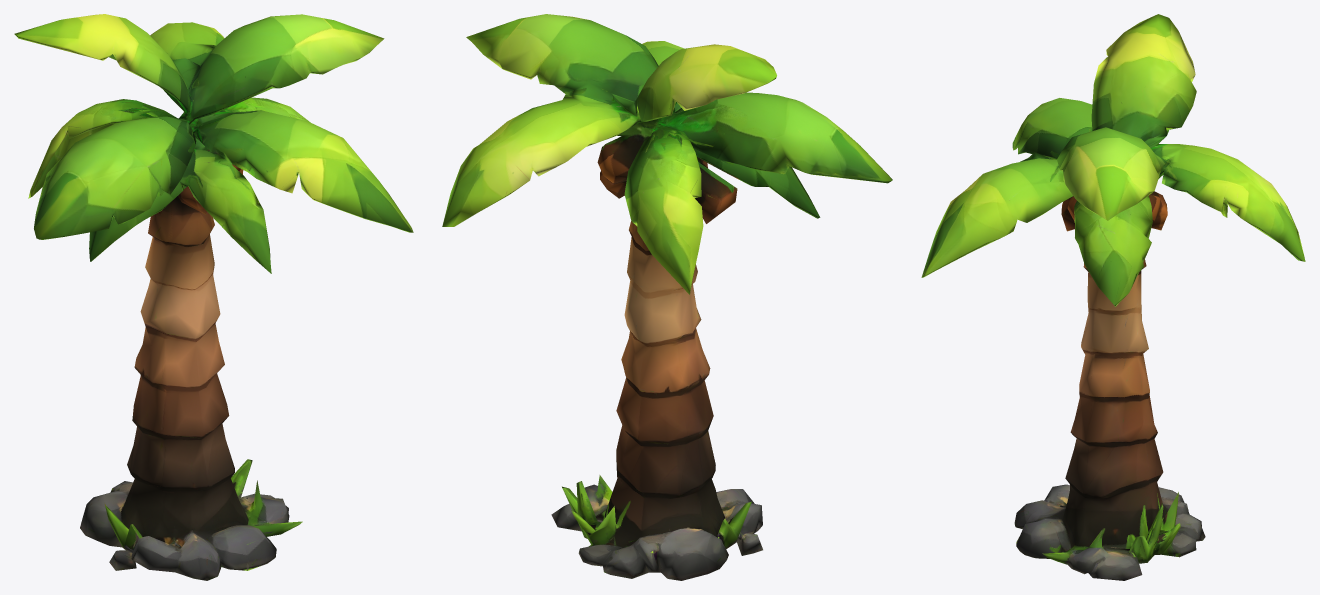
The model's file is geometric-palm-oasis.glb.
3 renders of one model, left to right at view 1: azimuth 30°, elevation 25°; view 2: azimuth 150°, elevation 25°; view 3: azimuth 270°, elevation 25°, orthographic. The views are drawn at different scales.
Parts seen in each view (by area): view 1: Mesh1.0; view 2: Mesh1.0; view 3: Mesh1.0.
Boxes of the visible parts, x1,y1,x2,y2 form: Mesh1.0: (14, 14, 413, 580); Mesh1.0: (442, 14, 892, 580); Mesh1.0: (921, 14, 1305, 580).
Size of the model in its own units: 1.47 by 1.91 by 1.41.
Materials: 1 (1 with a texture image).
